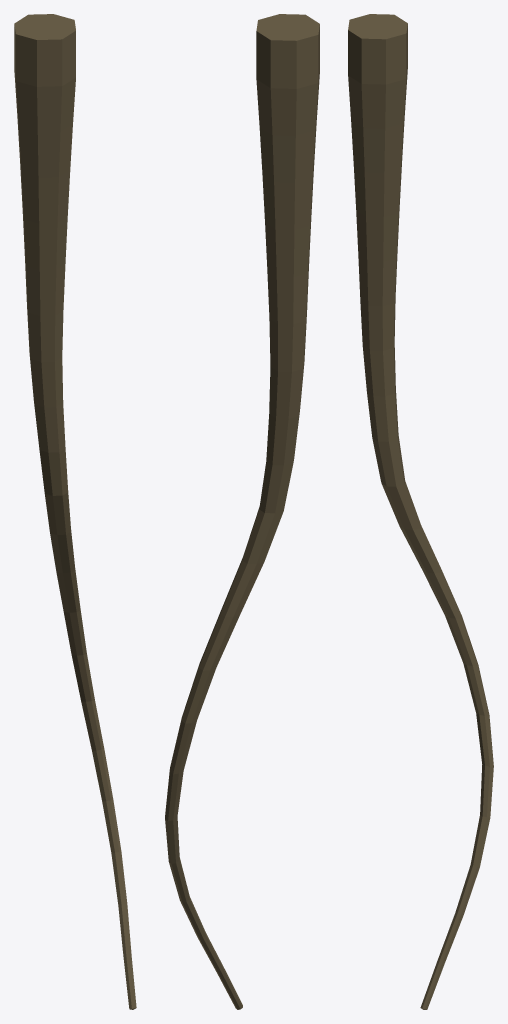
3 views of the same model, side by side, from view 1: azimuth 30°, elevation 25°; view 2: azimuth 150°, elevation 25°; view 3: azimuth 330°, elevation 25° (orthographic). The views are drawn at different scales.
Visible parts, largest first — view 1: Root.2.9; view 2: Root.2.9; view 3: Root.2.9.
Part boxes in pixels (box(x1,y1,x2,y2)): Root.2.9: box(14, 14, 136, 1009); Root.2.9: box(165, 14, 319, 1009); Root.2.9: box(348, 14, 493, 1009).
Size of the model in its own units: 54.23 by 421 by 45.26.
